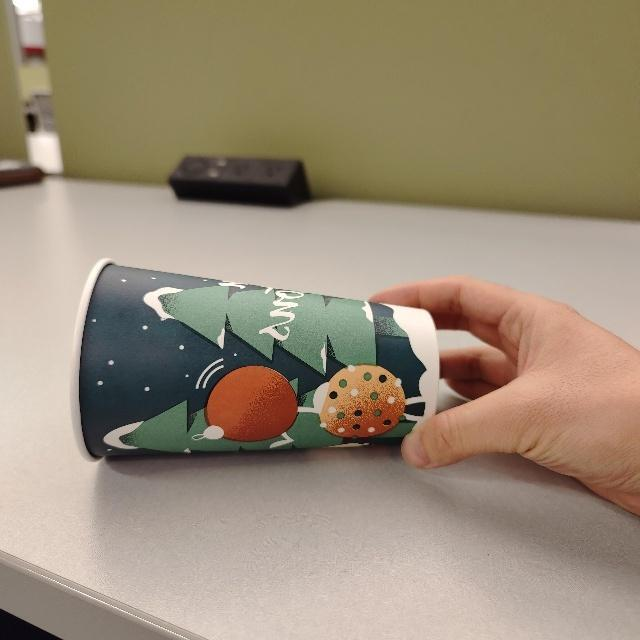timmies: (64, 258, 448, 468)
